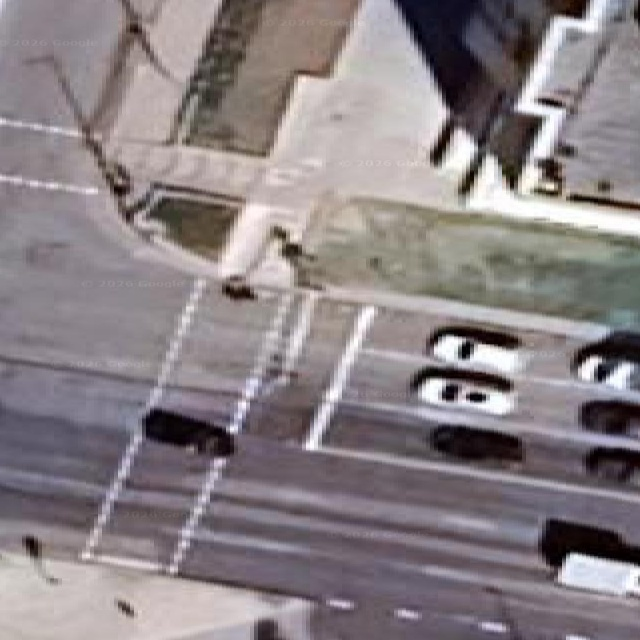car: (409, 367, 513, 415), (537, 517, 627, 567), (143, 408, 233, 456), (427, 326, 520, 372), (428, 424, 523, 463), (572, 332, 639, 387), (556, 552, 639, 596), (417, 377, 512, 413), (580, 400, 639, 435), (584, 447, 639, 482), (575, 355, 634, 387), (221, 275, 255, 300)
